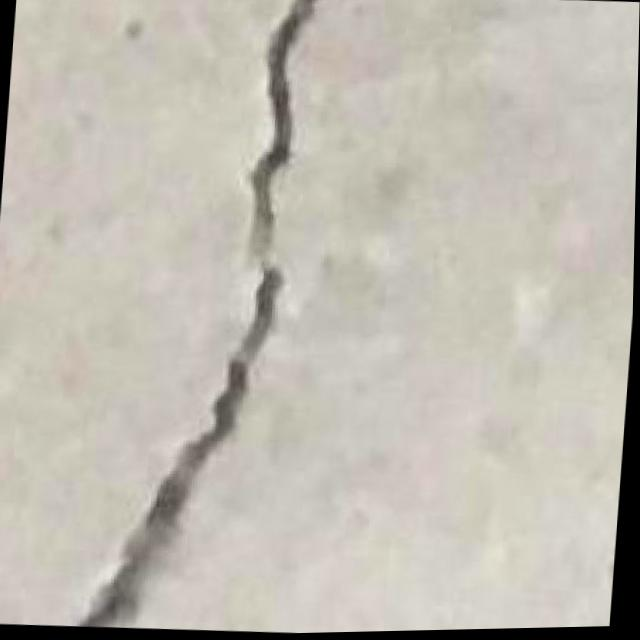Crack: (84, 0, 334, 637)
